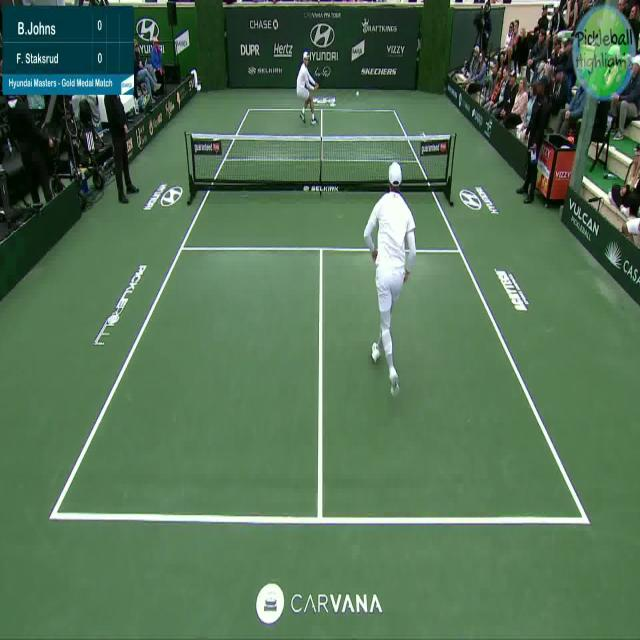ball: (354, 91, 362, 98)
